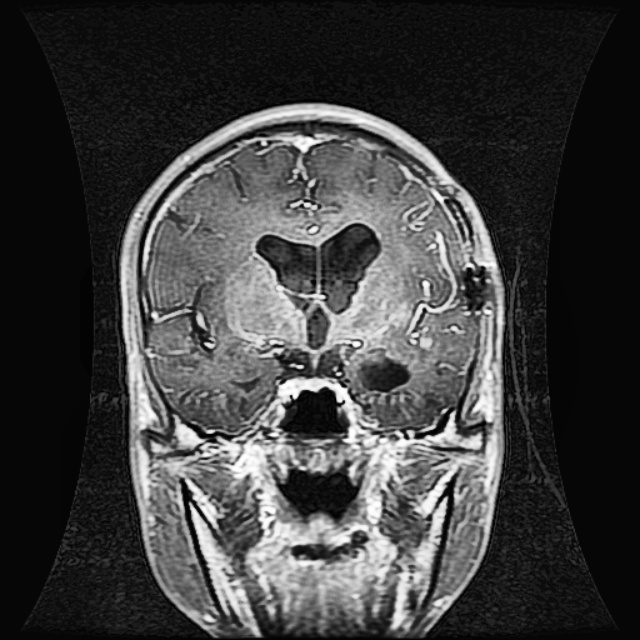Glioma: (360, 350, 407, 389)
